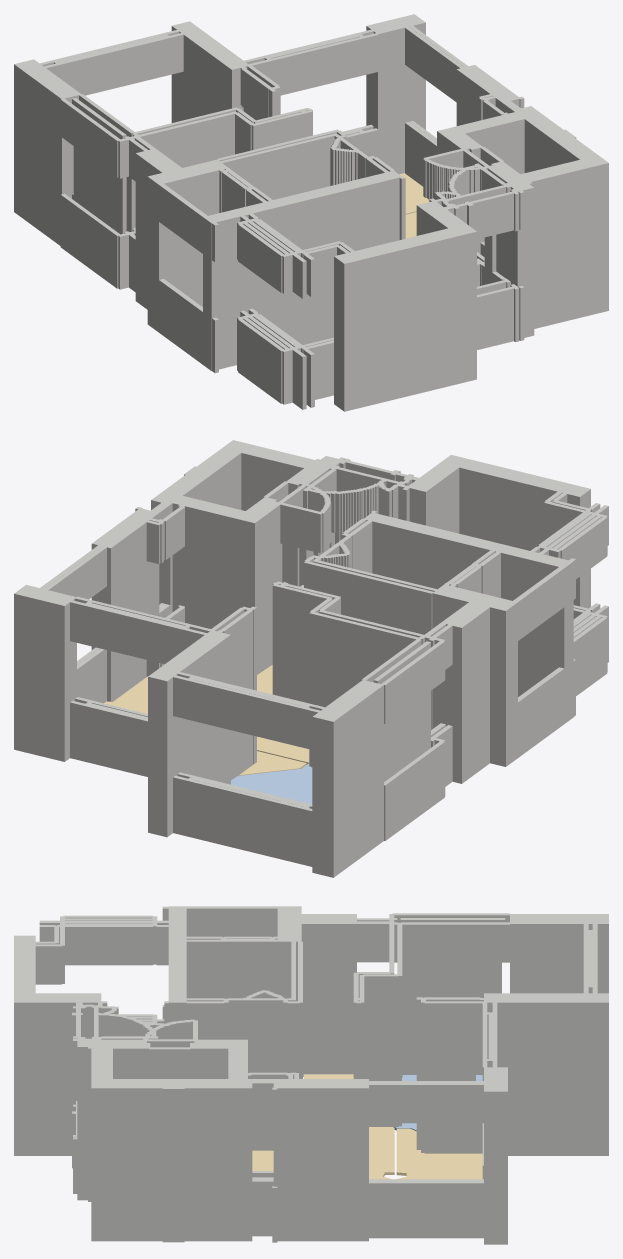
The picture shows the model from 3 angles, top to bottom: view 1: azimuth 30°, elevation 25°; view 2: azimuth 150°, elevation 25°; view 3: azimuth 270°, elevation 25°; orthographic projection. The views are drawn at different scales.
Parts seen in each view (by area): view 1: walls, room:living:0; view 2: walls, room:living:1, room:bedroom:6, room:living:0; view 3: walls, room:living:0, room:living:1.
Part boxes in pixels (x1,y1,x2,y2): walls: (14, 14, 608, 411); room:living:0: (399, 173, 429, 214); walls: (14, 440, 608, 877); room:living:1: (104, 665, 309, 764); room:bedroom:6: (231, 763, 312, 804); room:living:0: (239, 751, 306, 775); walls: (14, 906, 608, 1244); room:living:0: (396, 1128, 482, 1179); room:living:1: (252, 1074, 394, 1179).
Bounding box in the file's own units: 7.26 × 2.8 × 9.86.
